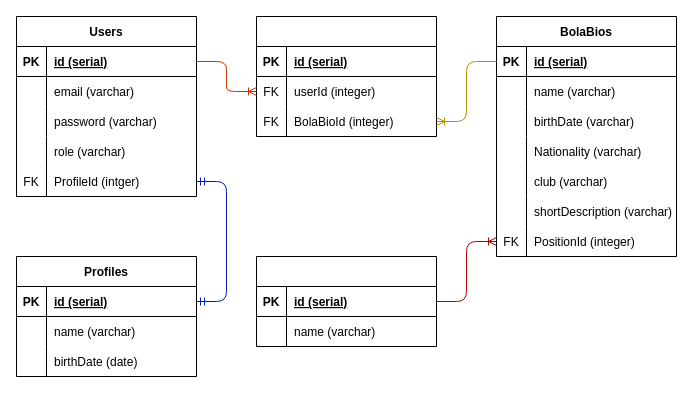
This 693x393 diagram has some shape labels left out. The shapes that lost their labels are listed below. From the top down, each one's box as (x1, y1, x2, y2) in pixels, then its label:
(256, 16, 436, 136): Likes
(256, 256, 436, 346): Positions
